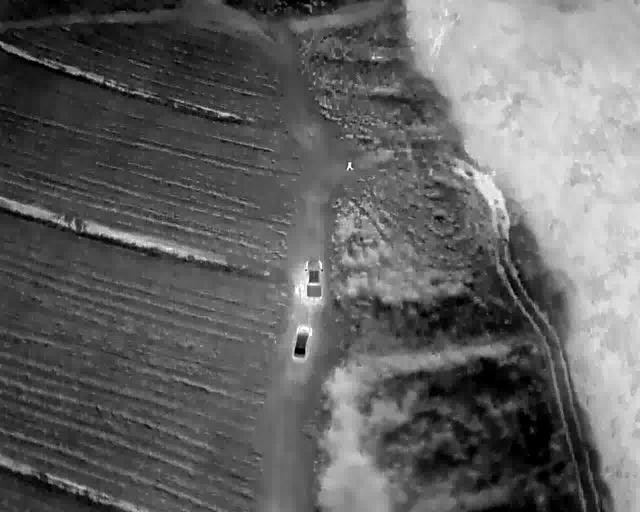car: (305, 257, 322, 299), (292, 323, 310, 361)
person: (345, 161, 353, 171), (294, 284, 299, 296)
